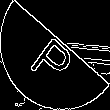P_NE: (27, 24, 83, 86)
